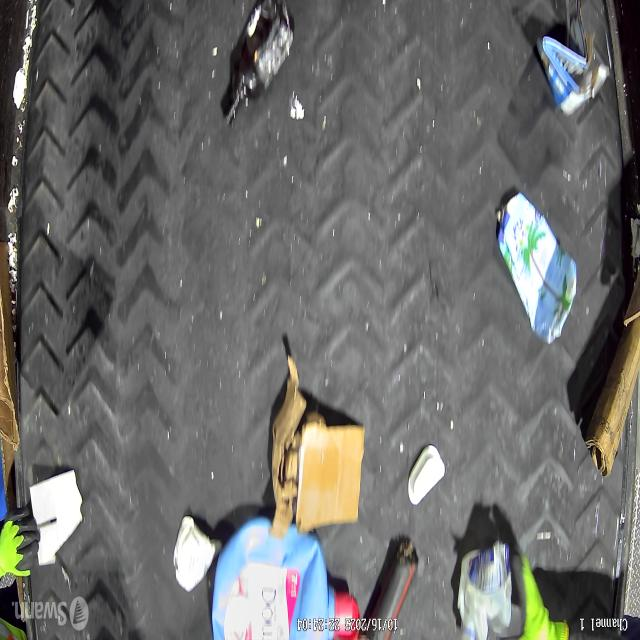non_white_jug: (212, 517, 360, 640), (497, 192, 578, 344)
